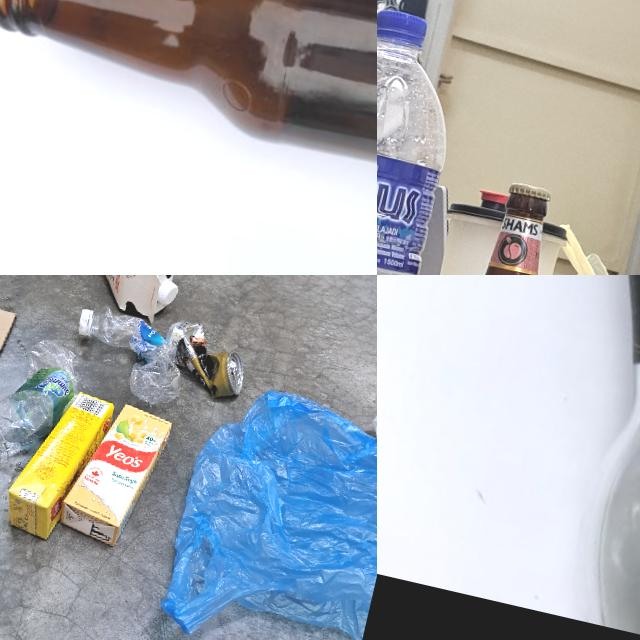aba de lata: (230, 366, 243, 386)
caixinha: (0, 380, 115, 548), (54, 393, 174, 552), (57, 275, 191, 324)
garrafa de vidro: (0, 0, 377, 218), (522, 275, 640, 640), (430, 174, 577, 275)
garrafa plástica: (377, 26, 471, 275), (74, 302, 195, 410), (0, 330, 83, 459)
lata: (154, 317, 252, 402)
sacola plástica: (151, 375, 377, 640)
tampa plástica: (377, 7, 428, 47), (76, 307, 92, 336)
